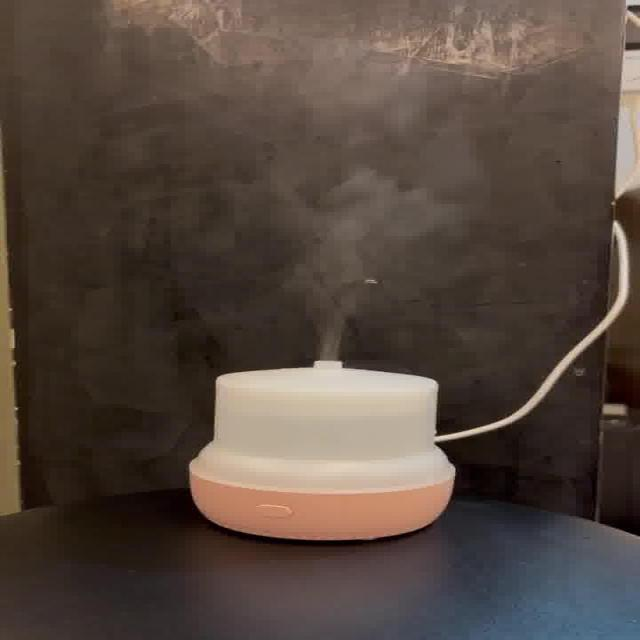fire: (274, 152, 484, 362)
